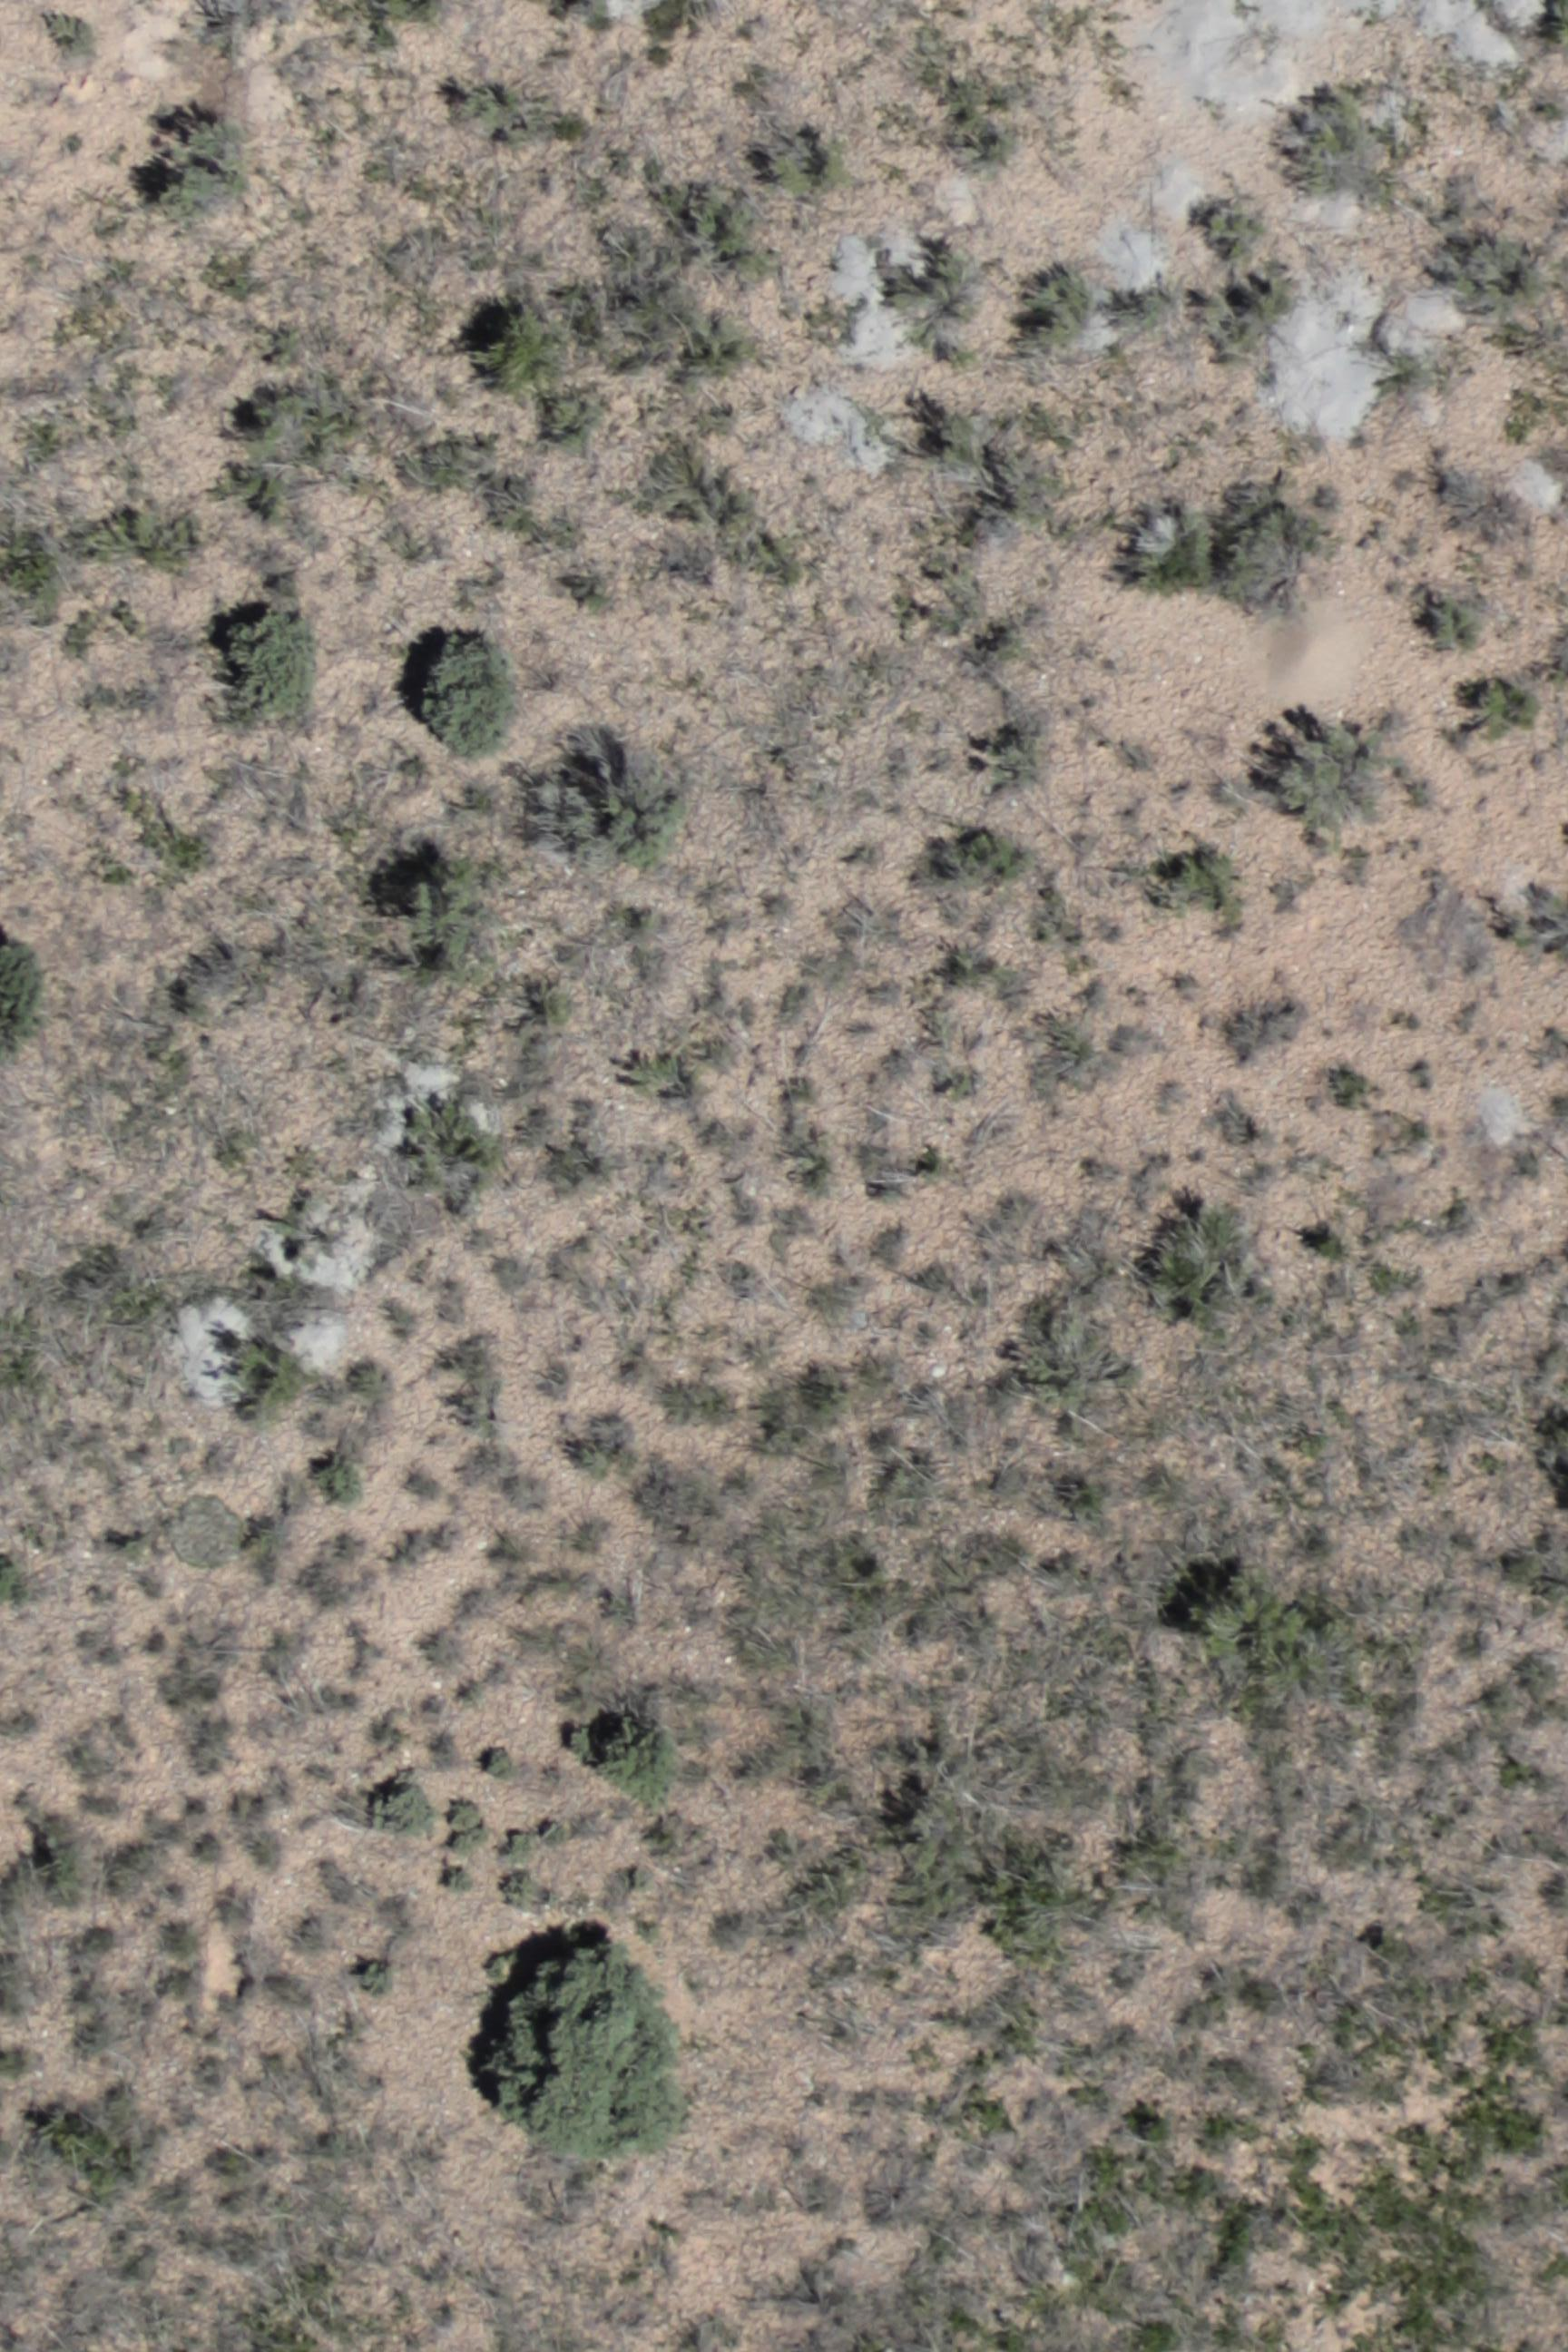burrow: (1248, 581, 1379, 737)
